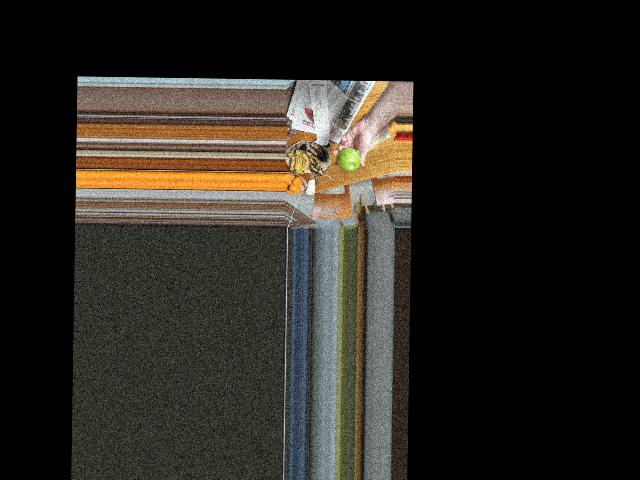apple: (335, 146, 361, 173)
